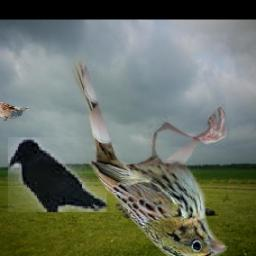Crow: (8, 138, 107, 213)
Sparrow: (67, 56, 227, 256), (0, 101, 30, 121)
